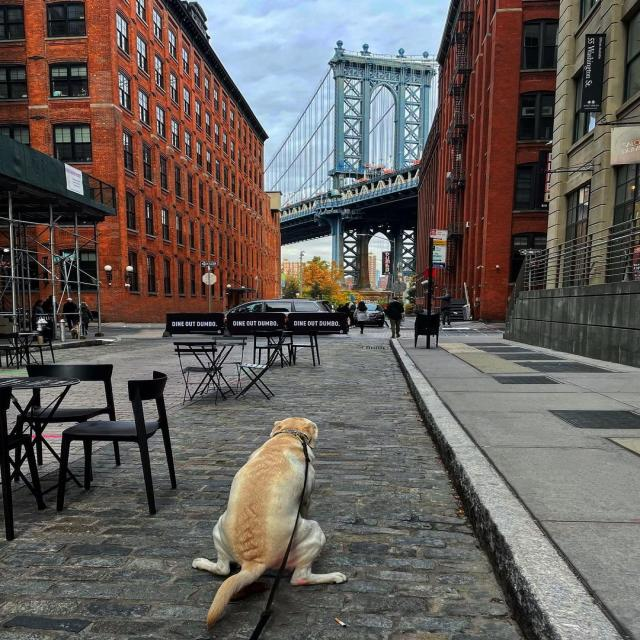squatting: (192, 412, 351, 627)
